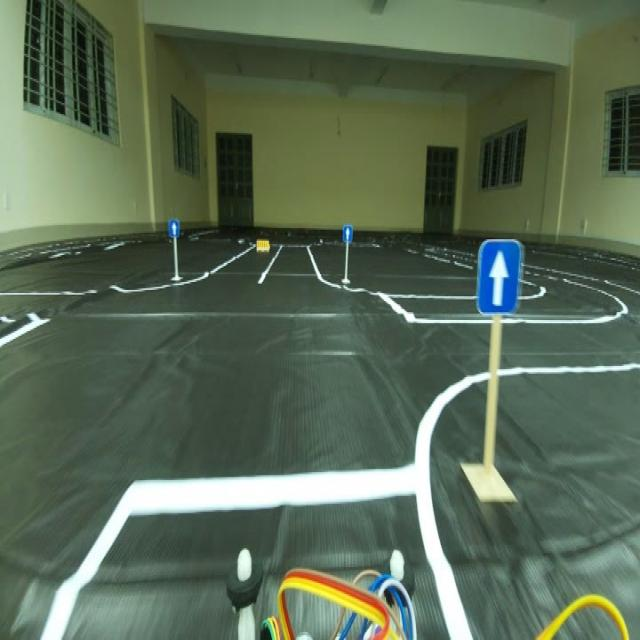onewayroad: (474, 236, 530, 323), (338, 223, 353, 246), (166, 217, 178, 233)
roadblock: (256, 234, 270, 259)
